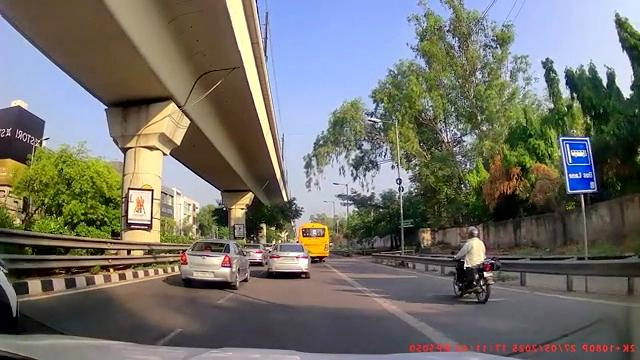motorcycle_with_helmet: (449, 229, 499, 305)
